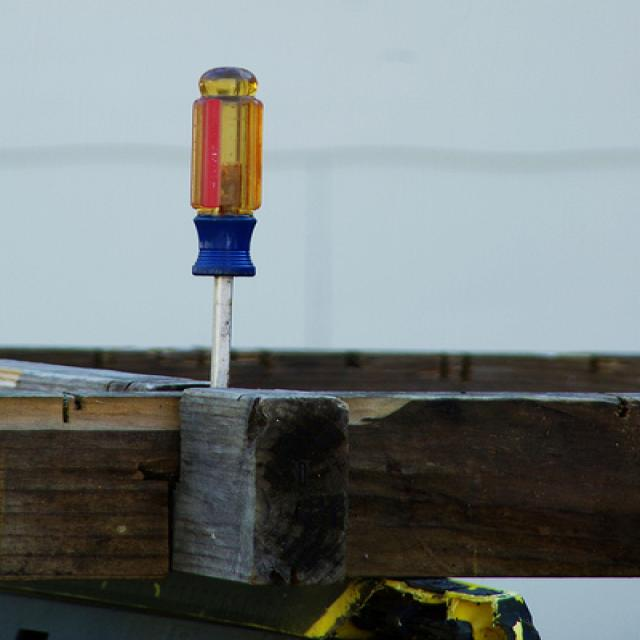screw driver: (134, 49, 333, 414)
